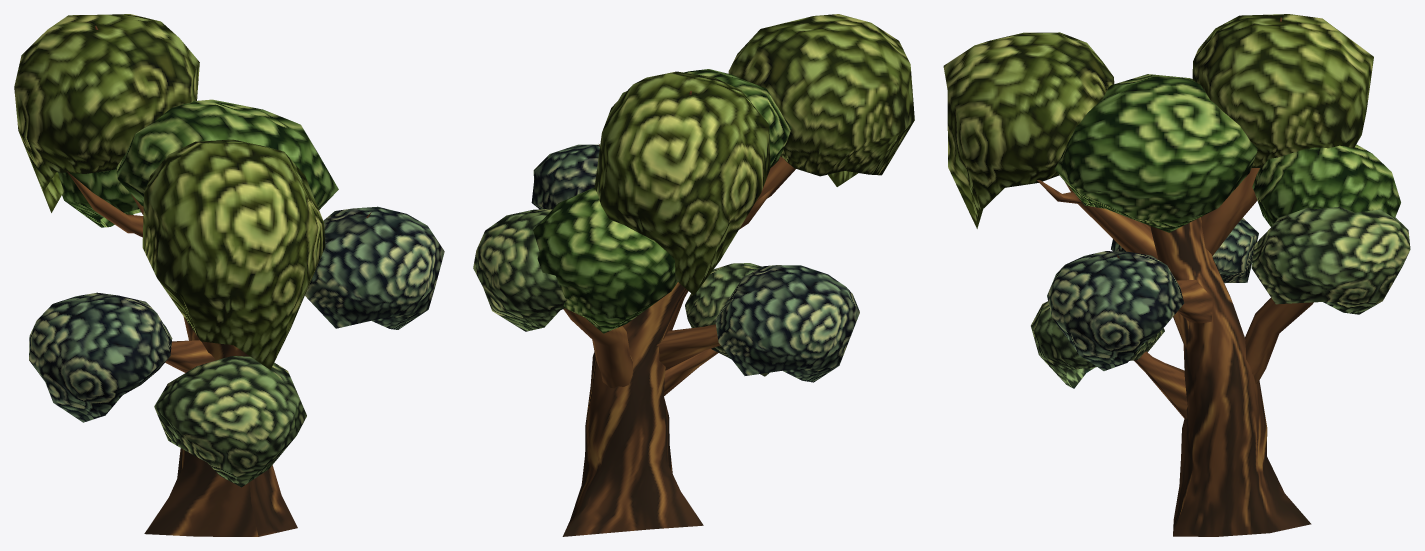
Rendered from Ntree_3.fbx.
3 views of the same model, side by side, from view 1: azimuth 30°, elevation 25°; view 2: azimuth 150°, elevation 25°; view 3: azimuth 270°, elevation 25° (orthographic). The views are drawn at different scales.
Parts seen in each view (by area): view 1: Ntree_3; view 2: Ntree_3; view 3: Ntree_3.
Boxes of the visible parts, left/top/right/bottom form: Ntree_3: left=14, top=14, right=444, bottom=536; Ntree_3: left=473, top=14, right=914, bottom=536; Ntree_3: left=943, top=14, right=1410, bottom=536.
Size of the model in its own units: 200 by 266 by 246.
